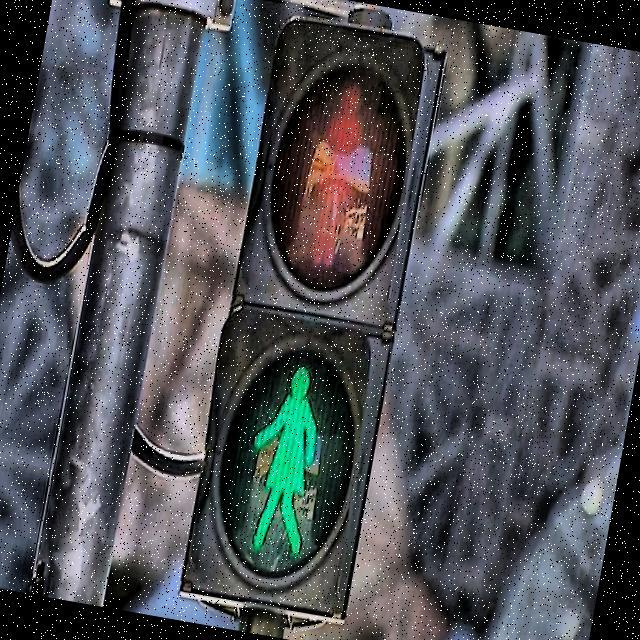green_light: (232, 356, 334, 561)
